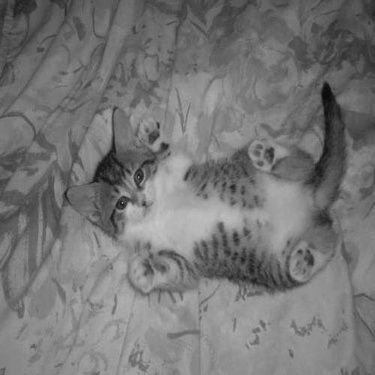cat: (63, 74, 344, 292)
